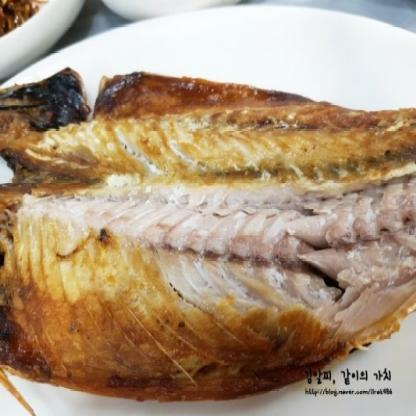Peixe: (0, 78, 416, 407)
